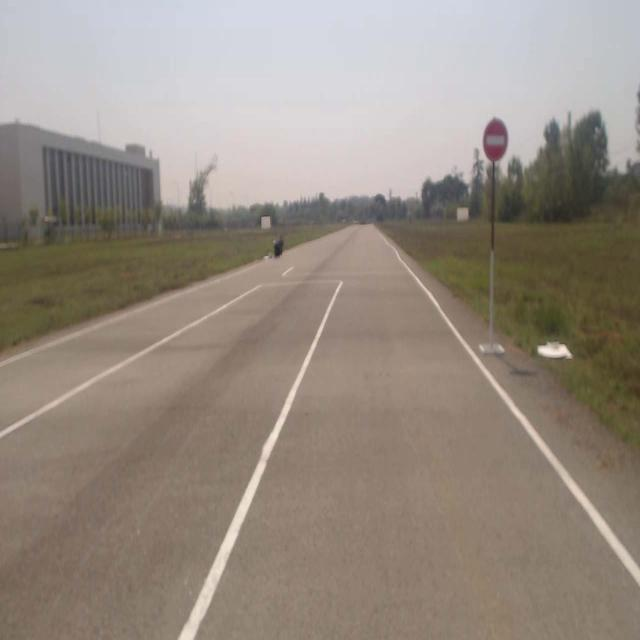girisyok: (483, 118, 507, 161)
